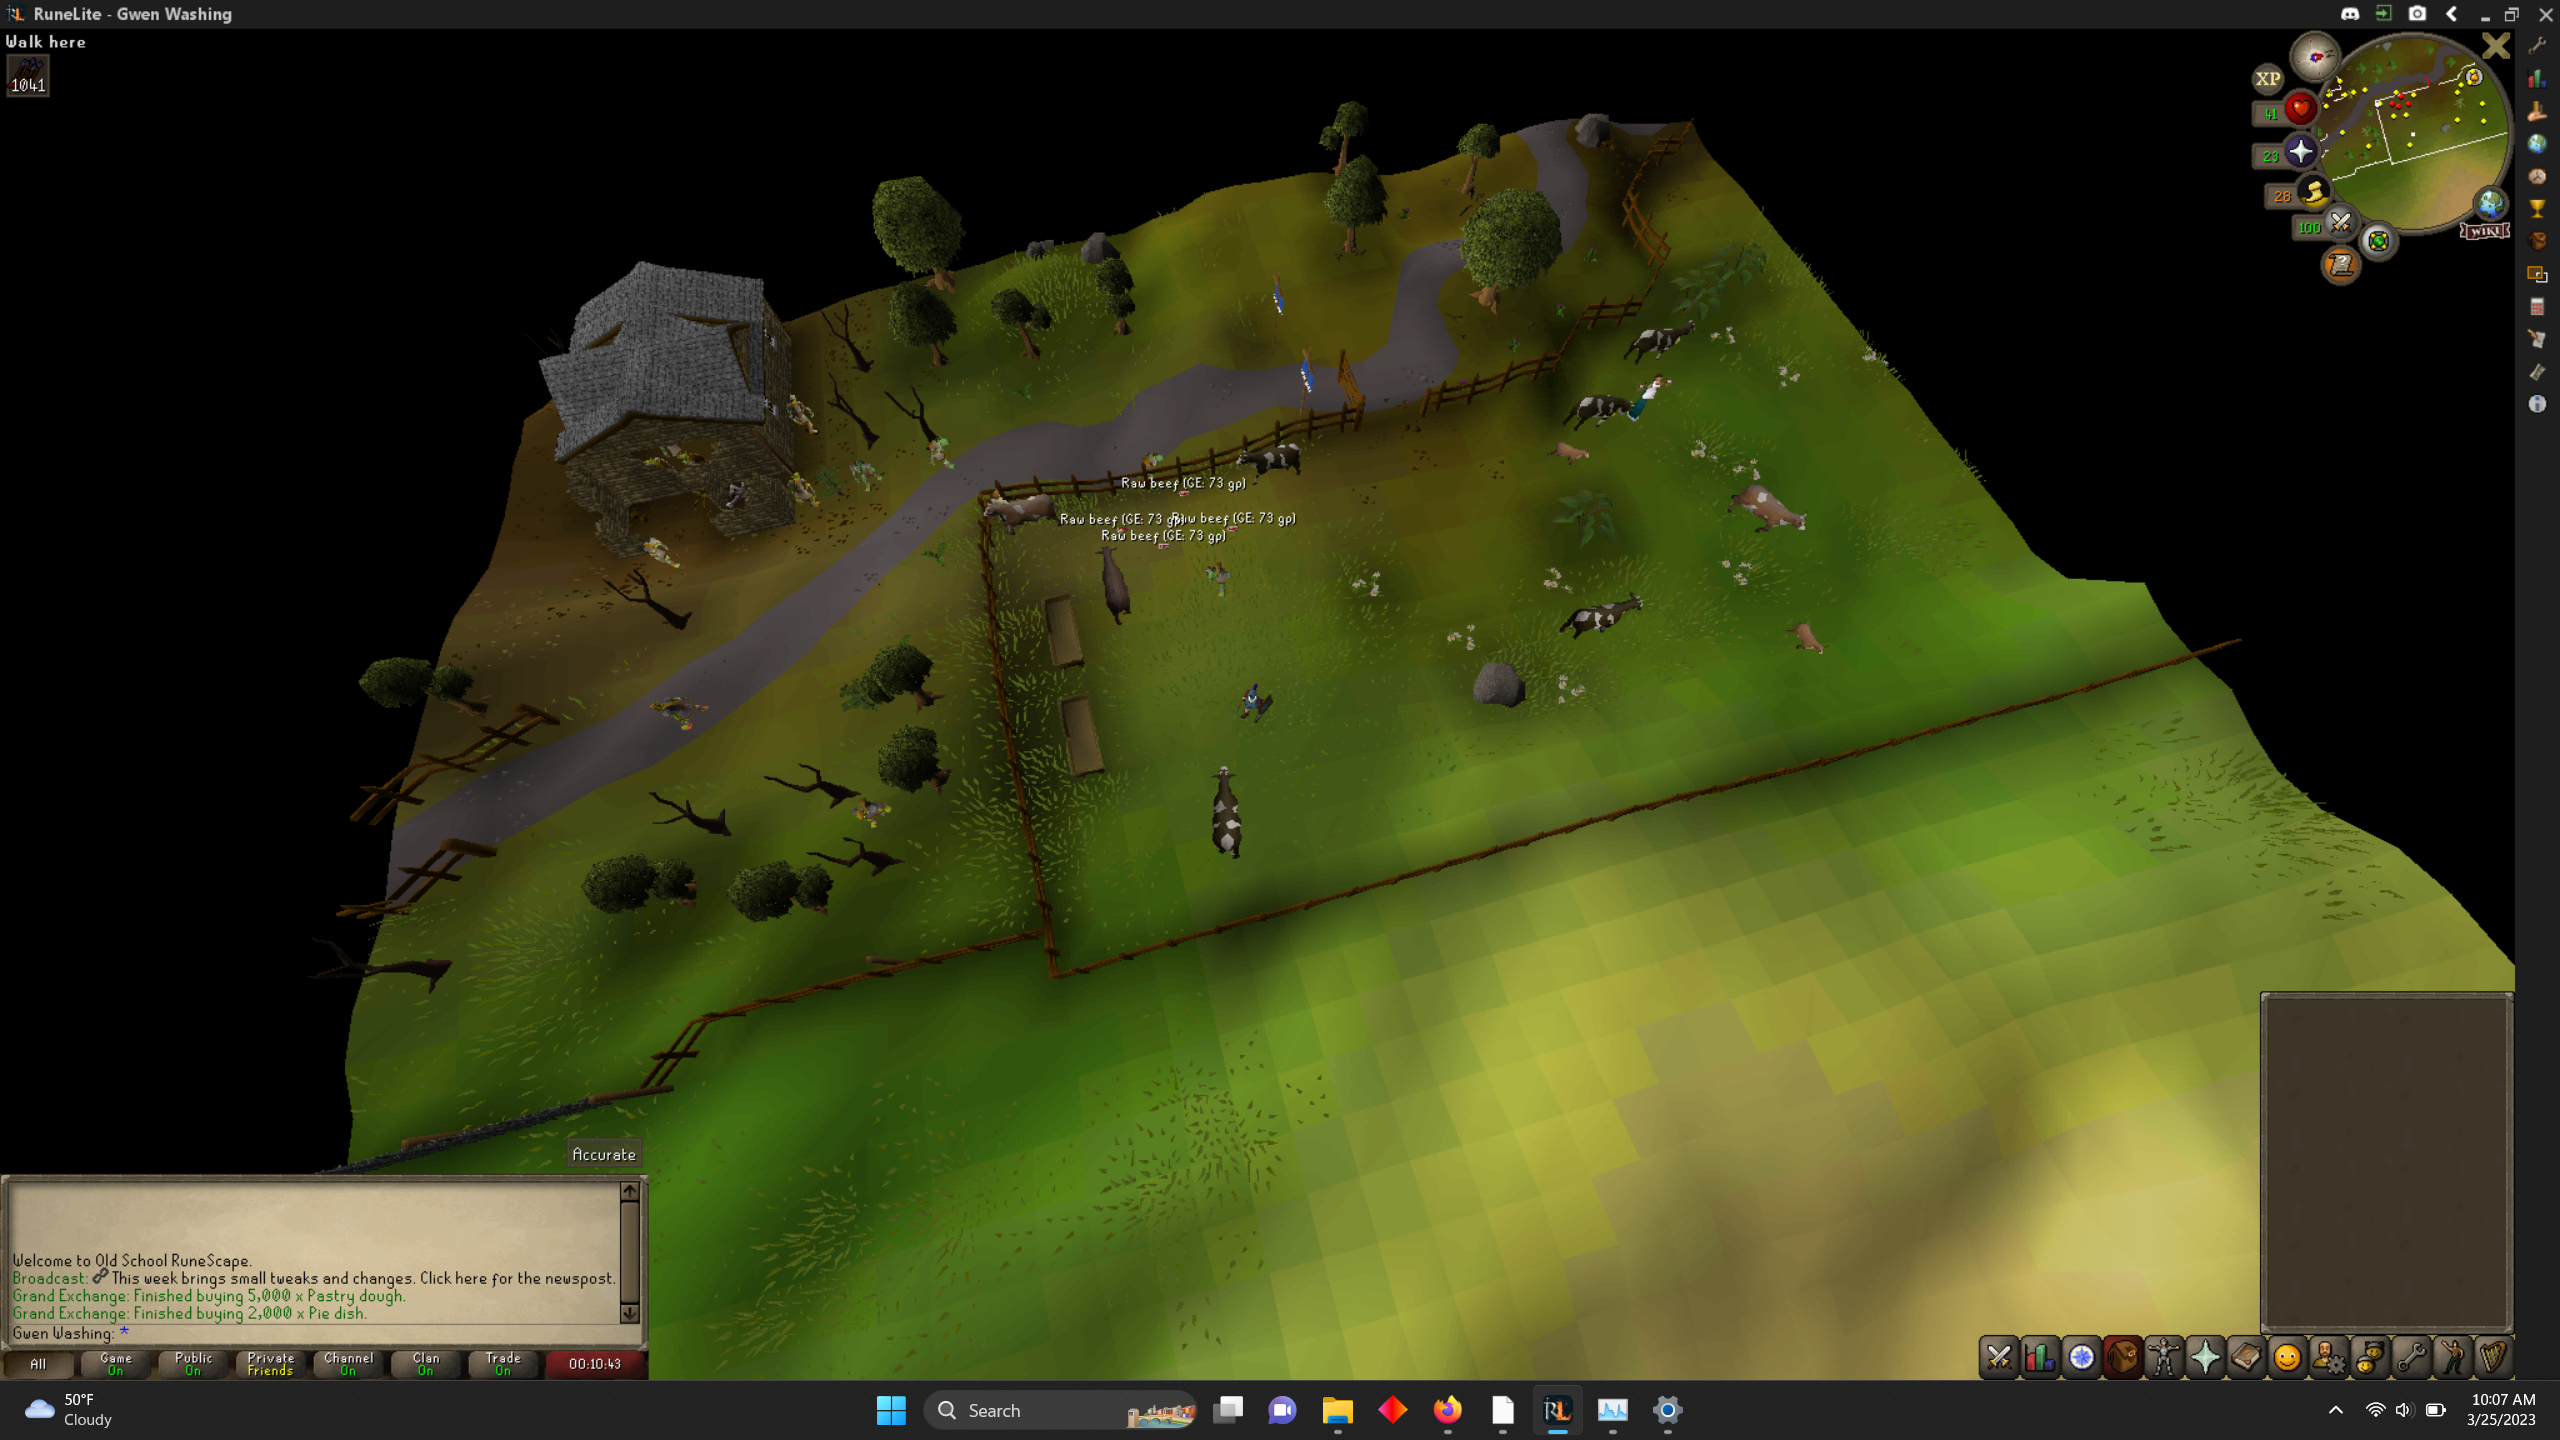cow: (1728, 476, 1815, 543), (1201, 763, 1252, 863), (1087, 540, 1143, 629), (1560, 587, 1647, 640), (983, 487, 1067, 538), (1626, 316, 1700, 366), (1236, 433, 1305, 485), (1568, 390, 1639, 434), (1781, 614, 1830, 663), (1545, 434, 1591, 475)
